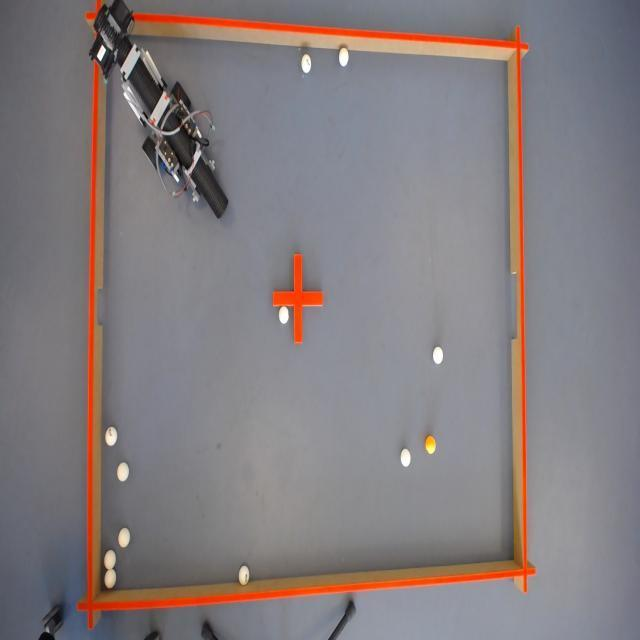orange: (424, 434, 435, 454)
robot: (90, 10, 226, 218)
white: (116, 462, 130, 485), (102, 567, 116, 589), (238, 565, 250, 590), (400, 446, 413, 467), (336, 46, 349, 66), (104, 426, 116, 447), (299, 54, 311, 74), (119, 528, 131, 548), (432, 344, 444, 364), (104, 549, 115, 569), (277, 304, 288, 324)
